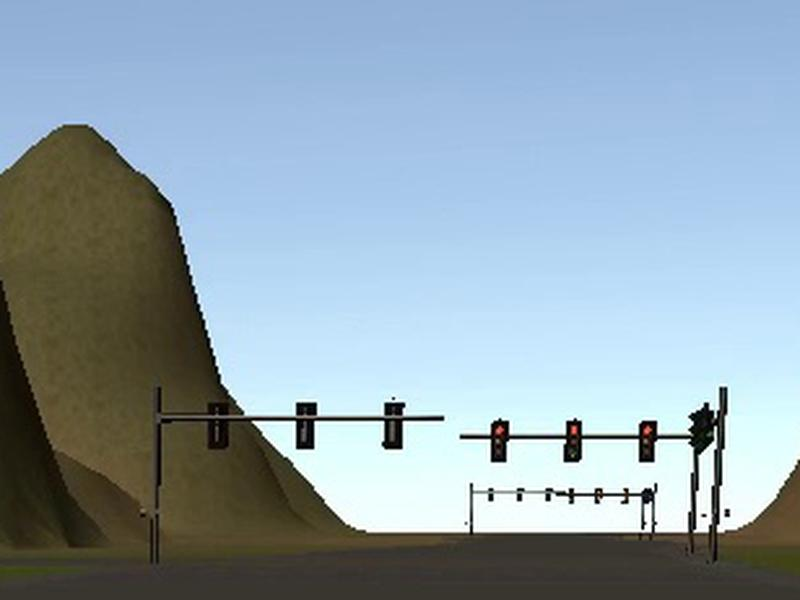Red: (489, 420, 509, 463), (638, 420, 657, 463), (564, 421, 581, 462)
